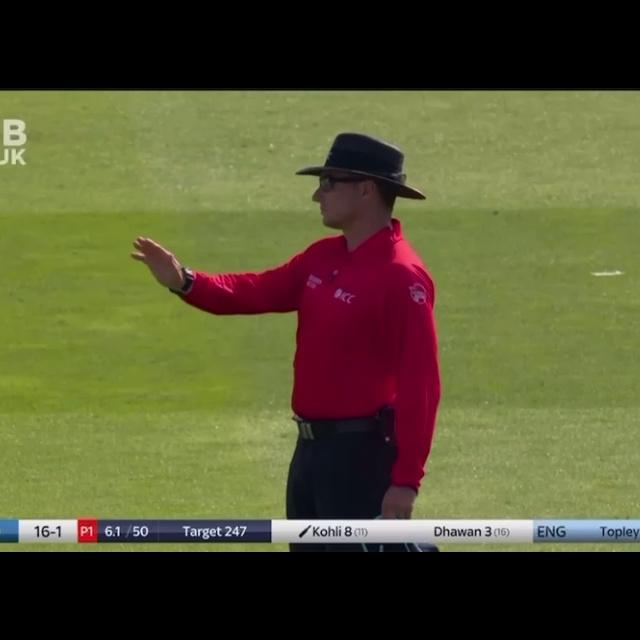umpire: (119, 108, 472, 522)
